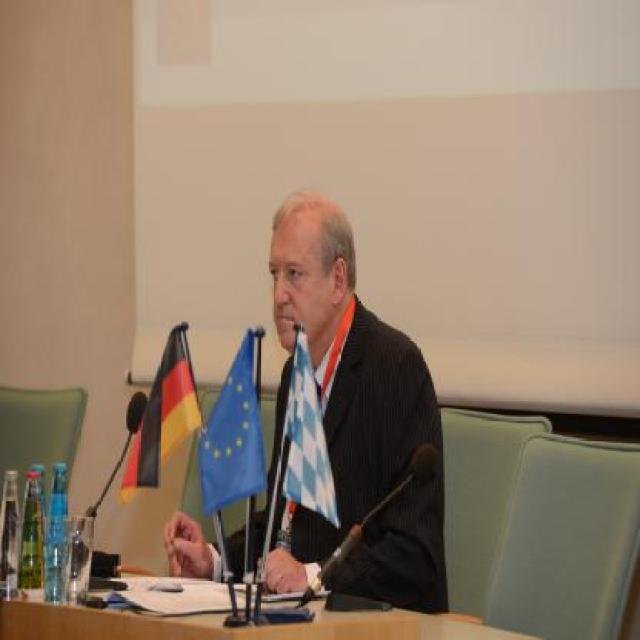Person: (189, 196, 431, 638)
